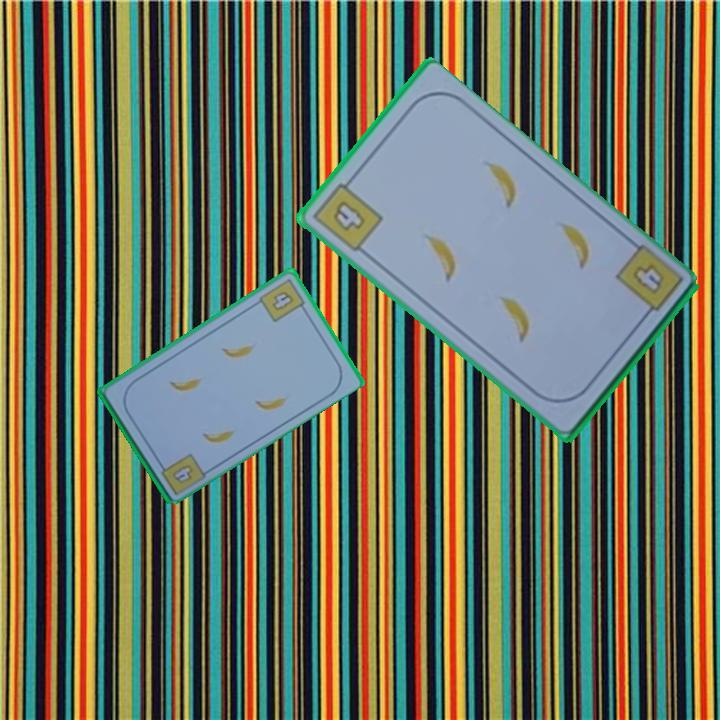4b: (309, 173, 386, 255), (255, 275, 309, 325), (628, 260, 667, 298), (168, 460, 196, 486)
